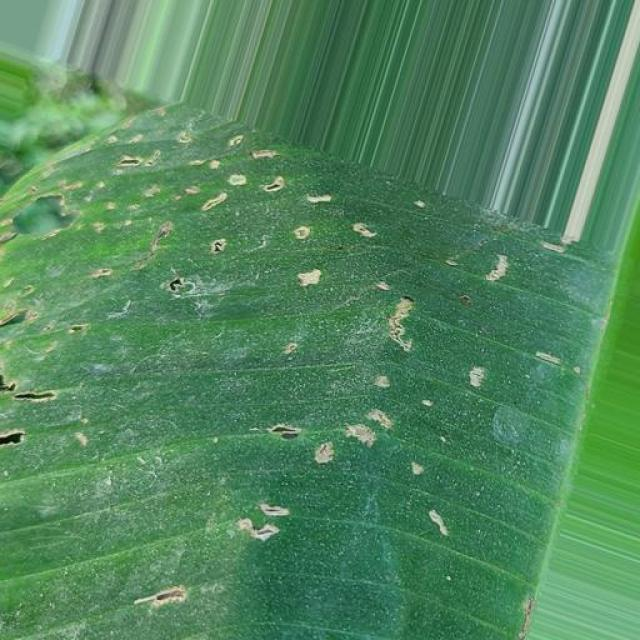Black_rot: (0, 94, 556, 616)
